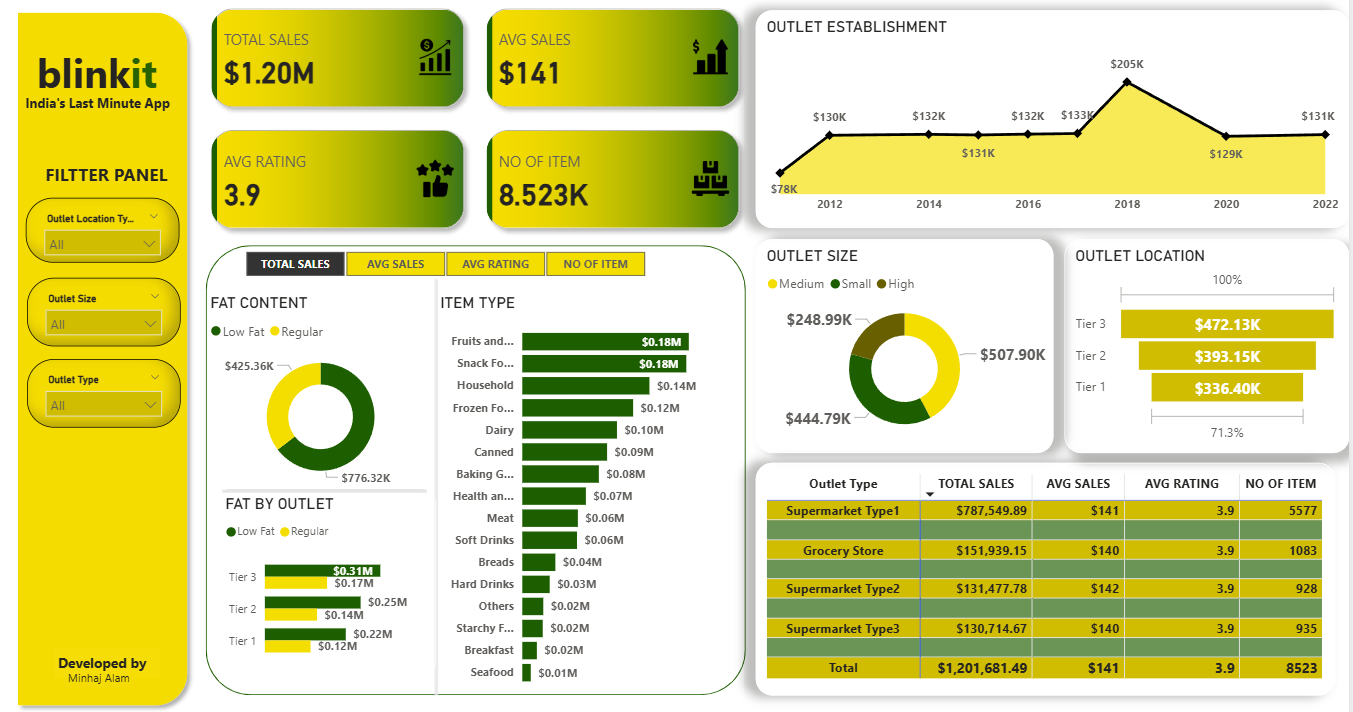

This screenshot's page, from the dashboard's own definition file:
{"tool":"powerbi","page":{"name":"Page 1","canvas":[1450,800],"ordinal":0},"visuals":[{"type":"shape","box":[13.4,32.2,199.7,761.4],"z":0},{"type":"textbox","box":[37.6,70.9,241.7,83.9],"z":1000},{"type":"textbox","box":[26.1,123,221.4,55],"z":2000},{"type":"cardVisual","fields":{"Data":["BlinkIT Grocery Data.TOTAL SALES","BlinkIT Grocery Data.AVG SALES","BlinkIT Grocery Data.AVG RATING","BlinkIT Grocery Data.NO OF ITEM"]},"box":[213.1,20.1,600.5,270.8],"z":3000},{"type":"shape","box":[223.9,290.9,579.1,482.6],"z":4000},{"type":"slicer","fields":{"Values":["metrics.metrics"]},"box":[241.7,290.9,477.6,36.2],"z":5000},{"type":"donutChart","title":" FAT CONTENT","fields":{"Y":["BlinkIT Grocery Data.TOTAL SALES"],"Category":["BlinkIT Grocery Data.Item Fat Content"]},"box":[223.9,341.8,246.7,215.8],"z":6000},{"type":"clusteredBarChart","title":"ITEM TYPE","fields":{"Y":["BlinkIT Grocery Data.TOTAL SALES"],"Category":["BlinkIT Grocery Data.Item Type"]},"box":[470.5,341.8,321.7,431.6],"z":7000},{"type":"shape","box":[202.4,327.1,537.5,446.4],"z":8000},{"type":"shape","box":[241.3,433,219.8,242.6],"z":9000},{"type":"lineChart","title":"OUTLET ESTABLISHMENT","fields":{"Category":["BlinkIT Grocery Data.Outlet Establishment Year"],"Y":["BlinkIT Grocery Data.TOTAL SALES"]},"box":[813.7,38.9,636.7,233.2],"z":10000},{"type":"donutChart","title":"OUTLET SIZE","fields":{"Category":["BlinkIT Grocery Data.Outlet Size"],"Y":["BlinkIT Grocery Data.TOTAL SALES"]},"box":[813.7,284.2,319,229.2],"z":11000},{"type":"funnel","title":"OUTLET LOCATION","fields":{"Category":["BlinkIT Grocery Data.Outlet Location Type"],"Y":["BlinkIT Grocery Data.TOTAL SALES"]},"box":[1144.8,284.2,305.6,229.2],"z":12000},{"type":"pivotTable","fields":{"Values":["BlinkIT Grocery Data.TOTAL SALES","BlinkIT Grocery Data.AVG SALES","BlinkIT Grocery Data.AVG RATING","BlinkIT Grocery Data.NO OF ITEM"],"Rows":["BlinkIT Grocery Data.Outlet Type"]},"box":[813.7,524.1,622,249.3],"z":13000},{"type":"clusteredBarChart","title":"FAT BY OUTLET","fields":{"Y":["BlinkIT Grocery Data.TOTAL SALES"],"Category":["BlinkIT Grocery Data.Outlet Location Type"],"Series":["BlinkIT Grocery Data.Item Fat Content"]},"box":[233.2,550.9,237.3,203.8],"z":14000},{"type":"slicer","fields":{"Values":["BlinkIT Grocery Data.Outlet Location Type"]},"box":[30.8,239.9,164.9,69.7],"z":15000},{"type":"slicer","fields":{"Values":["BlinkIT Grocery Data.Outlet Size"]},"box":[32.2,325.7,164.9,73.7],"z":16000},{"type":"slicer","fields":{"Values":["BlinkIT Grocery Data.Outlet Type"]},"box":[32.2,412.9,164.9,73.7],"z":17000},{"type":"textbox","box":[46.9,197.1,155.5,42.9],"z":18000},{"type":"textbox","box":[60.3,723.9,115.3,30.8],"z":19000},{"type":"textbox","box":[71.5,739.9,328,60.6],"z":20000}]}

Visuals, with their boxes on the page's 1450x800 design canvas (x1, y1, x2, y2). These are canvas units, not pixel positions in the 1353x712 screenshot, which may show the page scaled, cropped or inside an application window:
shape: x1=13 y1=32 x2=213 y2=794
textbox: x1=38 y1=71 x2=279 y2=155
textbox: x1=26 y1=123 x2=248 y2=178
cardVisual - BlinkIT Grocery Data.TOTAL SALES x BlinkIT Grocery Data.AVG SALES: x1=213 y1=20 x2=814 y2=291
shape: x1=224 y1=291 x2=803 y2=774
slicer - metrics.metrics: x1=242 y1=291 x2=719 y2=327
" FAT CONTENT" donutChart: x1=224 y1=342 x2=471 y2=558
"ITEM TYPE" clusteredBarChart: x1=470 y1=342 x2=792 y2=773
shape: x1=202 y1=327 x2=740 y2=774
shape: x1=241 y1=433 x2=461 y2=676
"OUTLET ESTABLISHMENT" lineChart: x1=814 y1=39 x2=1450 y2=272
"OUTLET SIZE" donutChart: x1=814 y1=284 x2=1133 y2=513
"OUTLET LOCATION" funnel: x1=1145 y1=284 x2=1450 y2=513
pivotTable - BlinkIT Grocery Data.TOTAL SALES x BlinkIT Grocery Data.AVG SALES: x1=814 y1=524 x2=1436 y2=773
"FAT BY OUTLET" clusteredBarChart: x1=233 y1=551 x2=470 y2=755
slicer - BlinkIT Grocery Data.Outlet Location Type: x1=31 y1=240 x2=196 y2=310
slicer - BlinkIT Grocery Data.Outlet Size: x1=32 y1=326 x2=197 y2=399
slicer - BlinkIT Grocery Data.Outlet Type: x1=32 y1=413 x2=197 y2=487
textbox: x1=47 y1=197 x2=202 y2=240
textbox: x1=60 y1=724 x2=176 y2=755
textbox: x1=72 y1=740 x2=400 y2=800
